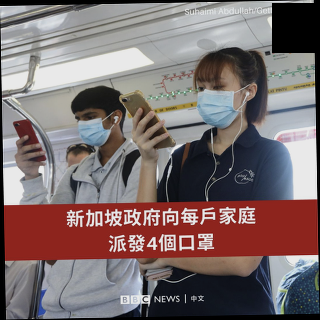with_mask: (196, 74, 245, 130), (75, 110, 109, 147)
